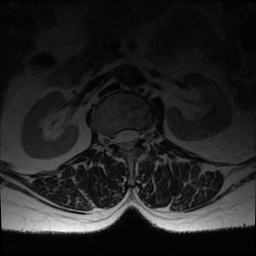CCS_normal: (122, 123, 131, 155)
LFS_normal: (138, 125, 146, 145)
LLS_normal: (131, 124, 139, 151)
RFS_normal: (107, 129, 115, 150)
RLS_normal: (114, 125, 122, 150)
